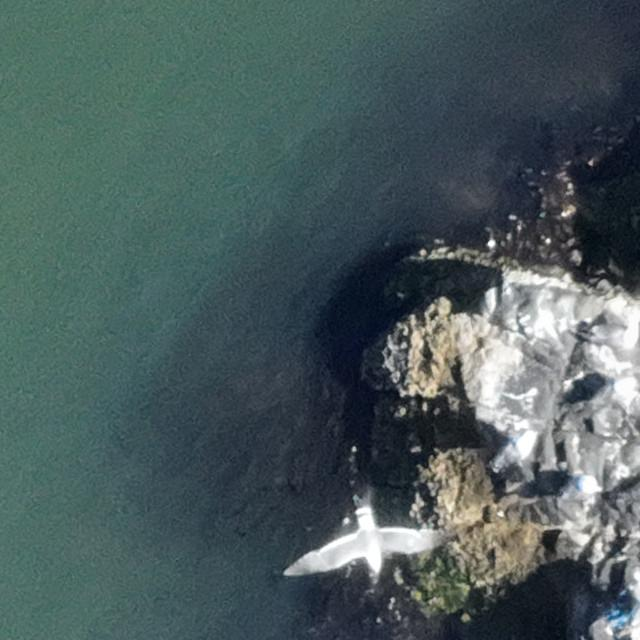F: (297, 493, 432, 576)
umineko: (502, 429, 539, 469), (586, 322, 635, 346), (557, 476, 603, 500)
